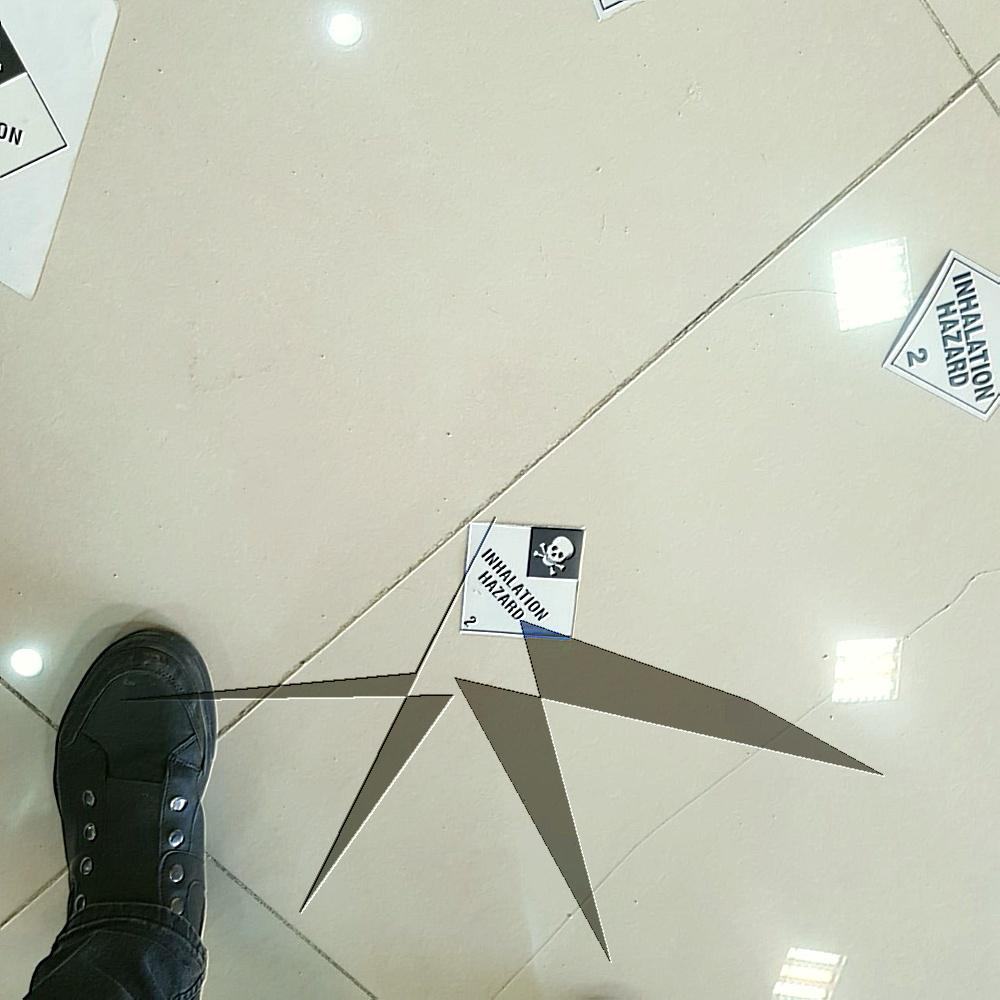poison: (884, 255, 1000, 430), (459, 523, 586, 635)
